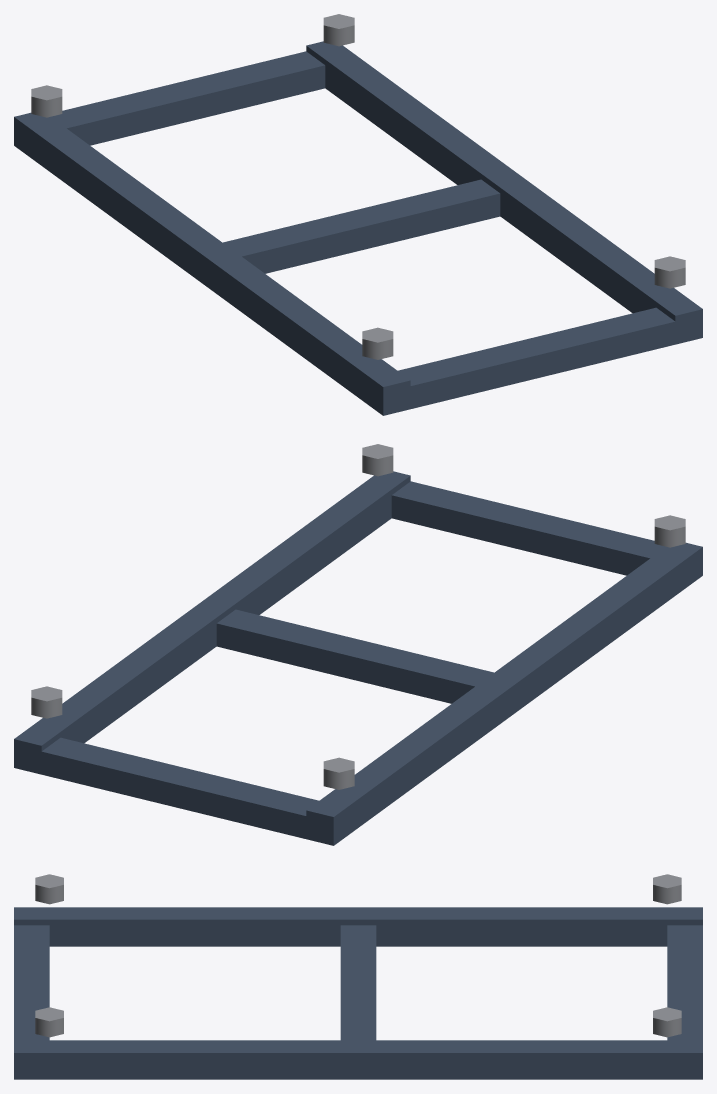
Rendered from mp8_rail_mount.obj.
The picture shows the model from 3 angles, top to bottom: view 1: azimuth 30°, elevation 25°; view 2: azimuth 150°, elevation 25°; view 3: azimuth 270°, elevation 25°; orthographic projection. The views are drawn at different scales.
Visible parts, largest first — view 1: mp8_rail_mount; view 2: mp8_rail_mount; view 3: mp8_rail_mount.
Boxes of the visible parts, <box> form: mp8_rail_mount: <box>14,14,702,415</box>; mp8_rail_mount: <box>14,444,702,845</box>; mp8_rail_mount: <box>14,874,702,1079</box>.
Size of the model in its own units: 0.586 by 0.11 by 1.16.
